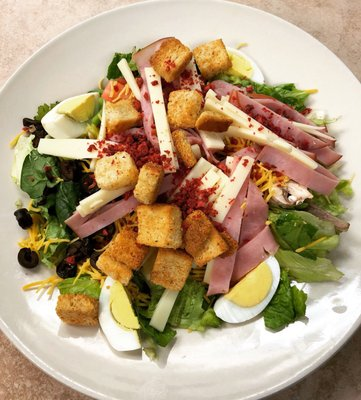curry: (2, 0, 358, 331)
